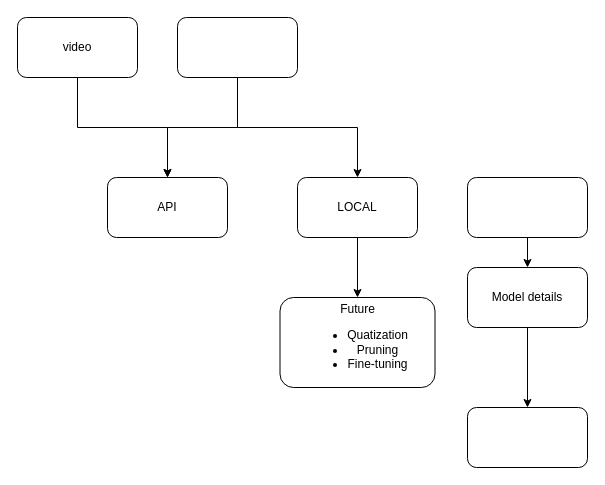
This 605x485 diagram has some shape labels left out. Each missing label, with the box of its shape:
Images: (176, 16, 298, 78)
Presentation: (466, 176, 588, 238)
